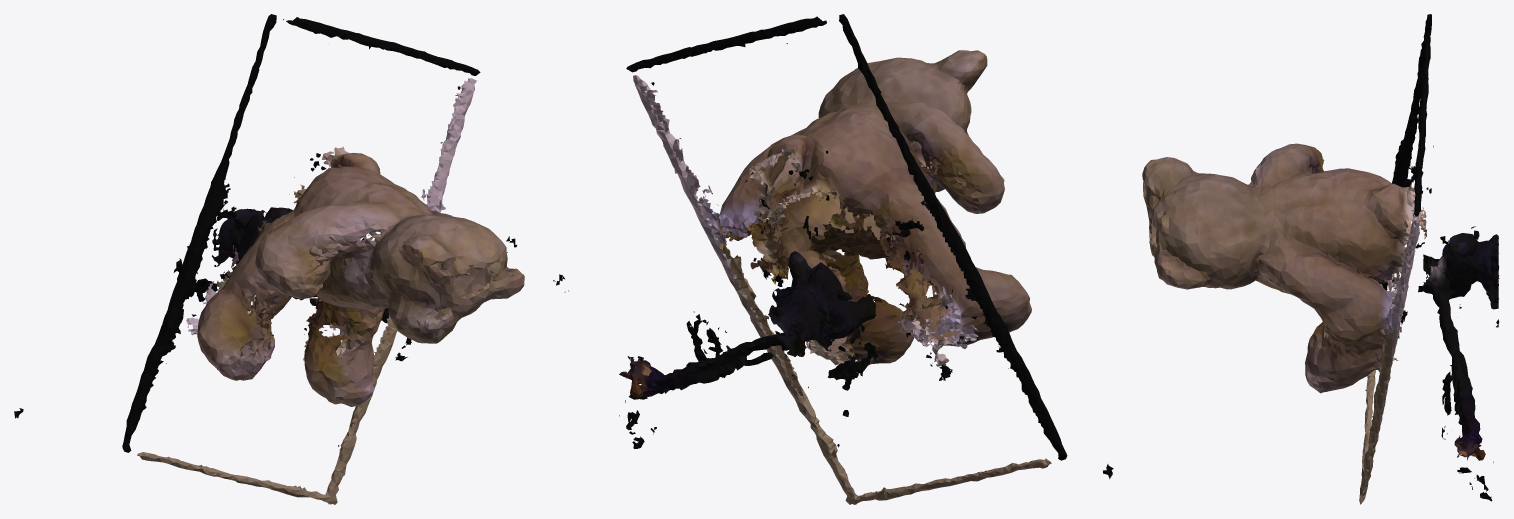
File: teddy.obj
3 renders of one model, left to right at view 1: azimuth 30°, elevation 25°; view 2: azimuth 150°, elevation 25°; view 3: azimuth 270°, elevation 25°, orthographic. The views are drawn at different scales.
Size of the model in its own units: 22.07 by 19.93 by 13.56.
Materials: 1 (1 with a texture image).
